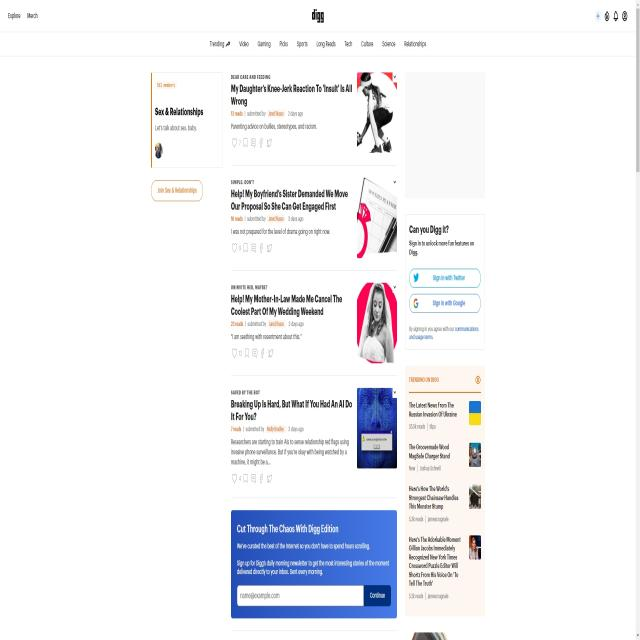content: (228, 210, 308, 224), (229, 105, 314, 118), (229, 316, 307, 327), (230, 423, 308, 433)
menu-bar: (207, 28, 433, 56)
side-panel: (407, 209, 486, 621)
